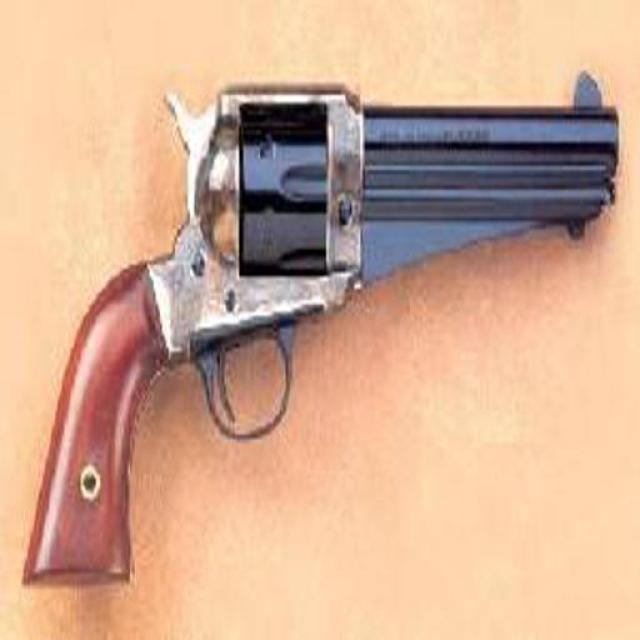pistol: (21, 59, 622, 588)
